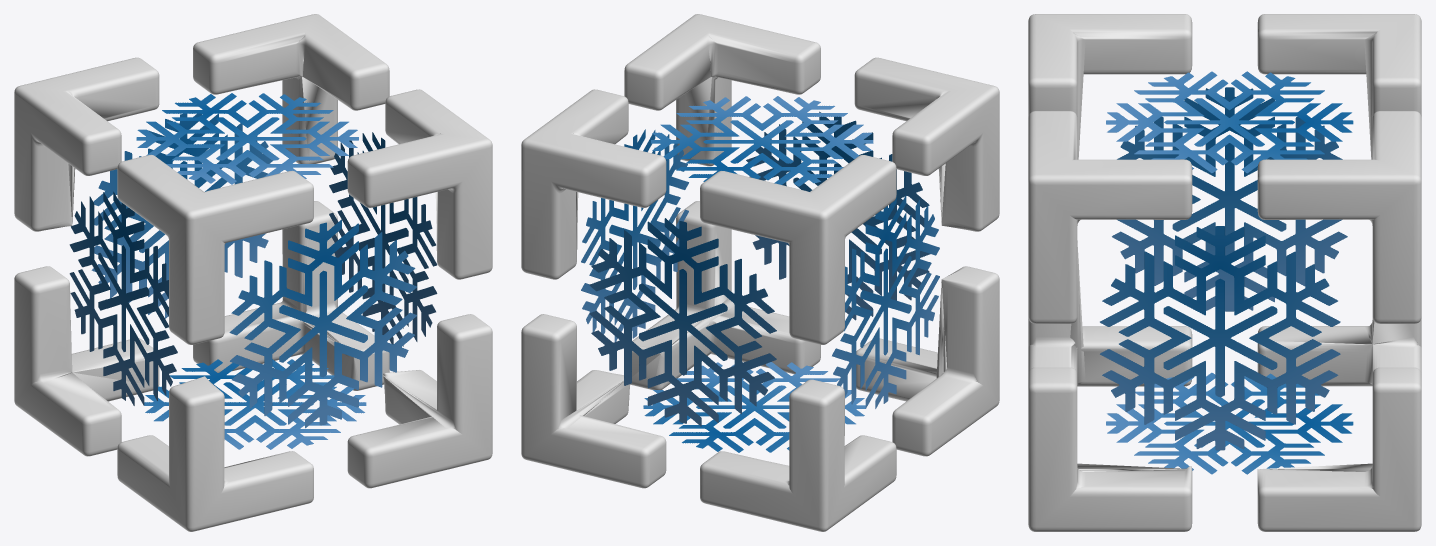
Rendered from FreezeBox.FBX.
3 views of the same model, side by side, from view 1: azimuth 30°, elevation 25°; view 2: azimuth 150°, elevation 25°; view 3: azimuth 270°, elevation 25° (orthographic). The views are drawn at different scales.
Parts seen in each view (by area): view 1: MainBox, Corner005, Corner008, Corner001, Corner011, Corner007, Corner006, Corner010, Corner002; view 2: MainBox, Corner011, Corner006, Corner010, Corner005, Corner002, Corner008, Corner001, Corner007; view 3: MainBox, Corner010, Corner001, Corner007, Corner002, Corner005, Corner011, Corner008, Corner006.
Part boxes in pixels (x1,y1,x2,y2): MainBox: [69, 93, 437, 449]; Corner005: [117, 154, 313, 344]; Corner008: [117, 376, 313, 531]; Corner001: [347, 89, 492, 279]; Corner011: [14, 57, 159, 231]; Corner007: [347, 314, 492, 488]; Corner006: [14, 266, 159, 456]; Corner010: [193, 14, 389, 163]; Corner002: [193, 201, 389, 390]; MainBox: [581, 96, 939, 452]; Corner011: [700, 154, 896, 344]; Corner006: [700, 379, 896, 531]; Corner010: [521, 89, 666, 279]; Corner005: [854, 57, 999, 231]; Corner002: [521, 314, 666, 488]; Corner008: [856, 266, 999, 456]; Corner001: [624, 14, 820, 166]; Corner007: [630, 201, 820, 389]; MainBox: [1100, 71, 1353, 474]; Corner010: [1257, 111, 1421, 323]; Corner001: [1028, 111, 1192, 323]; Corner007: [1028, 367, 1192, 531]; Corner002: [1257, 367, 1421, 531]; Corner005: [1028, 14, 1192, 159]; Corner011: [1257, 14, 1421, 159]; Corner008: [1028, 240, 1192, 386]; Corner006: [1257, 317, 1421, 386].
Bounding box in the file's own units: 120 × 120 × 120.
1 material, 1 textured.
